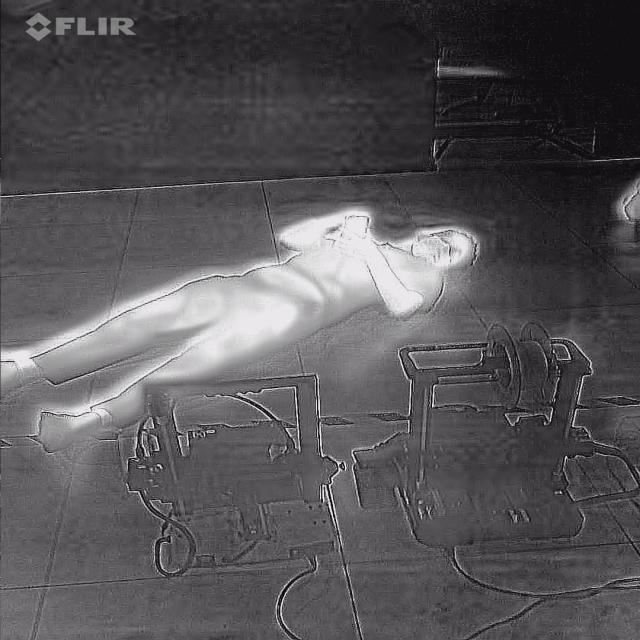Victim: (0, 196, 487, 451)
